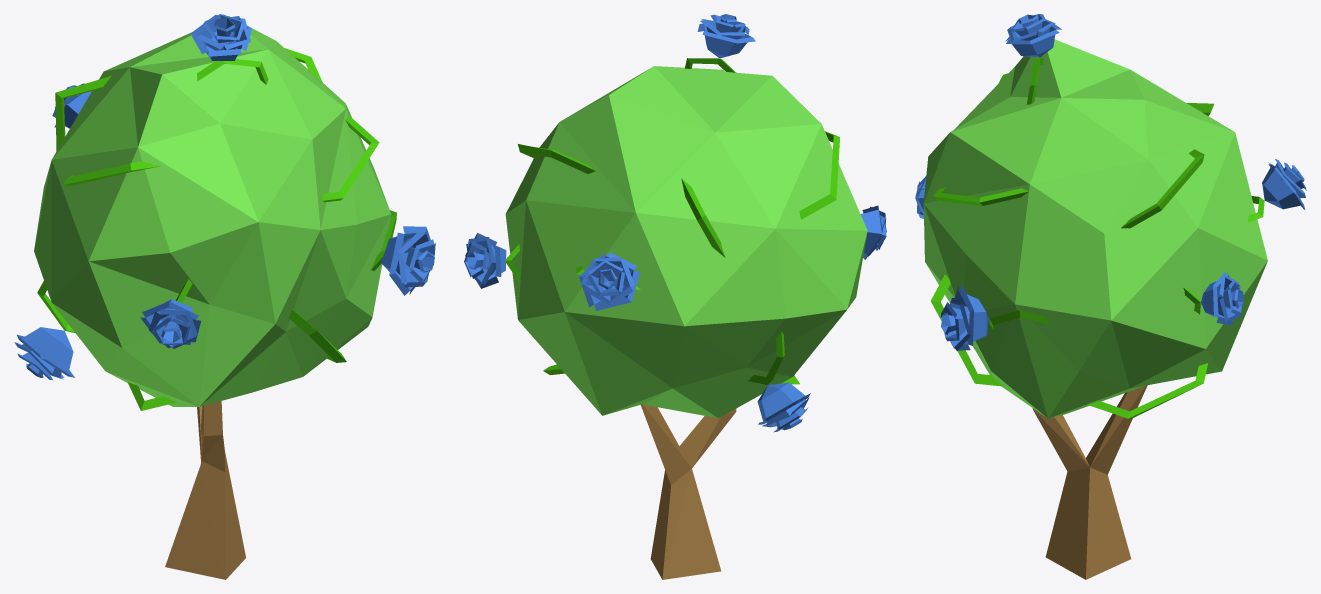
Rendered from Arbusto03.fbx.
3 views of the same model, side by side, from view 1: azimuth 30°, elevation 25°; view 2: azimuth 150°, elevation 25°; view 3: azimuth 270°, elevation 25° (orthographic). The views are drawn at different scales.
Visible parts, largest first — view 1: Cylinder.071; view 2: Cylinder.071; view 3: Cylinder.071.
Boxes of the visible parts, x1=… form: Cylinder.071: x1=14, y1=14, x2=435, y2=579; Cylinder.071: x1=464, y1=14, x2=886, y2=579; Cylinder.071: x1=915, y1=14, x2=1306, y2=579.
Size of the model in its own units: 111 by 177 by 116.
